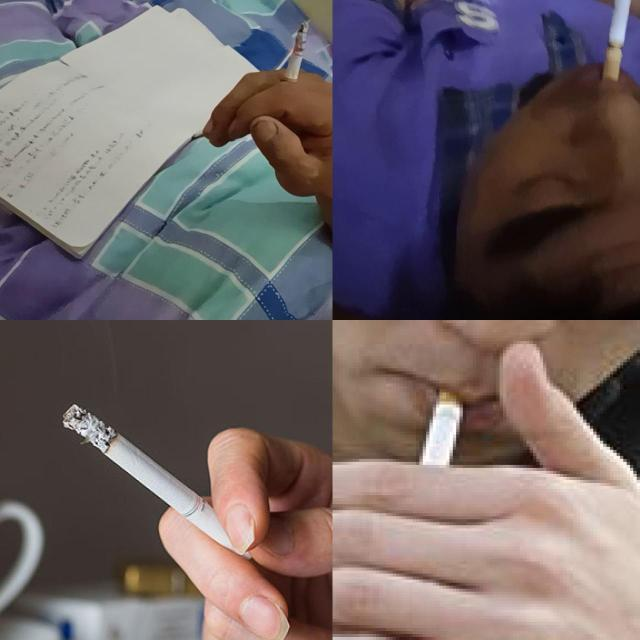smoking: (61, 402, 256, 562), (418, 370, 470, 490), (604, 0, 640, 81), (280, 20, 310, 96)
